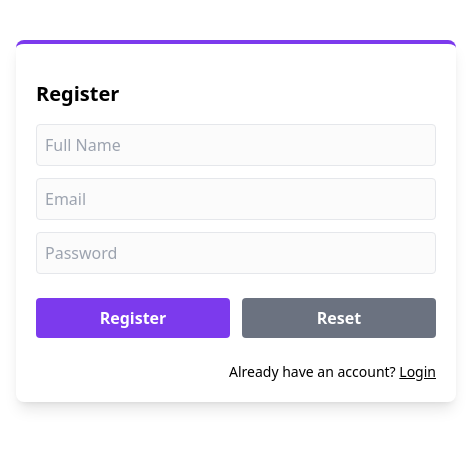
Register Form › should display an error message if user already exists
Type "Jitendra Patidar" into the field with placeholder "Full Name" at x=236, y=145, box x1=36 y1=124 x2=436 y2=166
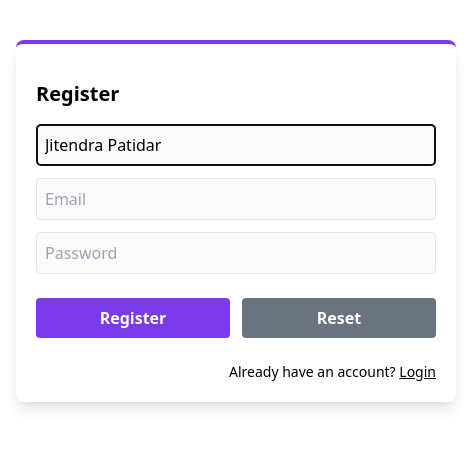
Type "admin@gmail.com" into the field with placeholder "Email" at x=236, y=199, box x1=36 y1=178 x2=436 y2=220
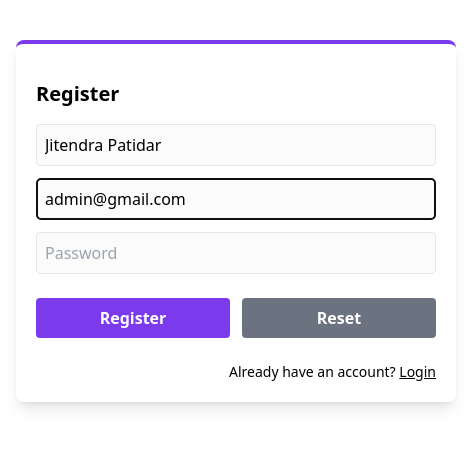
Type "admin@gmail.com" into the password field with placeholder "Password" at x=236, y=253, box x1=36 y1=232 x2=436 y2=274
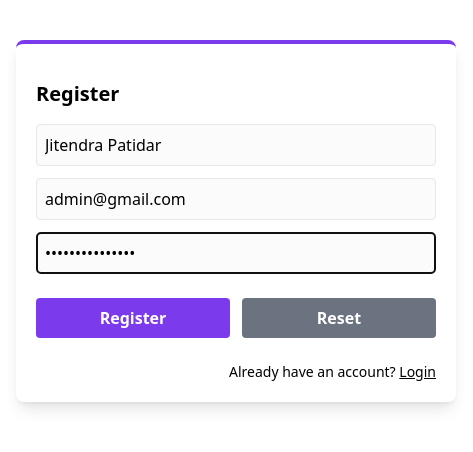
Click the submit button at x=133, y=318, box x1=36 y1=298 x2=230 y2=338
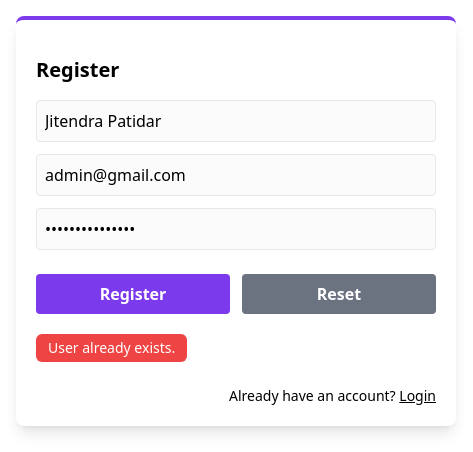
expect the text "User already exists." is shown: met, box x1=36 y1=334 x2=187 y2=362
